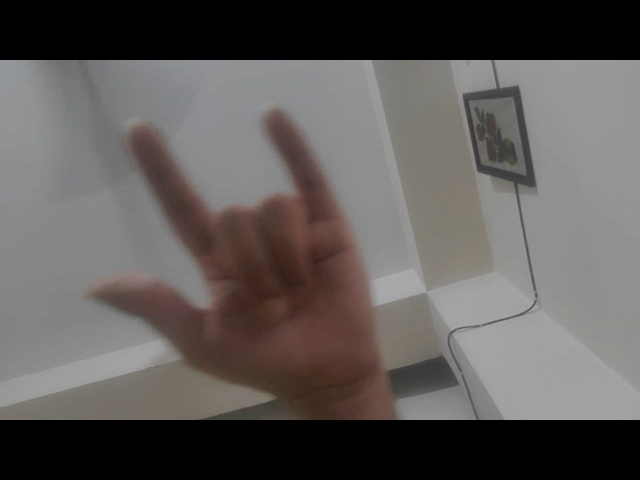I love you: (69, 99, 398, 401)
